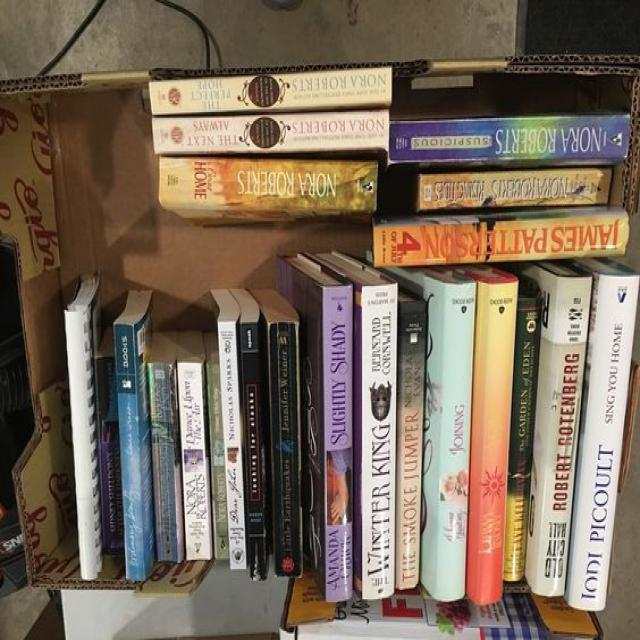book: (570, 274, 640, 607), (531, 275, 592, 591), (467, 279, 517, 598), (374, 213, 626, 271), (435, 285, 475, 594), (359, 283, 397, 599), (158, 155, 376, 209), (149, 68, 391, 114), (390, 112, 627, 158), (322, 288, 355, 598), (505, 297, 540, 582), (153, 116, 386, 156), (269, 320, 301, 580), (115, 322, 147, 580), (242, 324, 271, 583), (218, 323, 248, 571), (420, 169, 609, 208), (401, 302, 426, 584), (147, 364, 181, 565), (178, 364, 211, 560), (95, 360, 121, 554), (207, 365, 232, 560)
